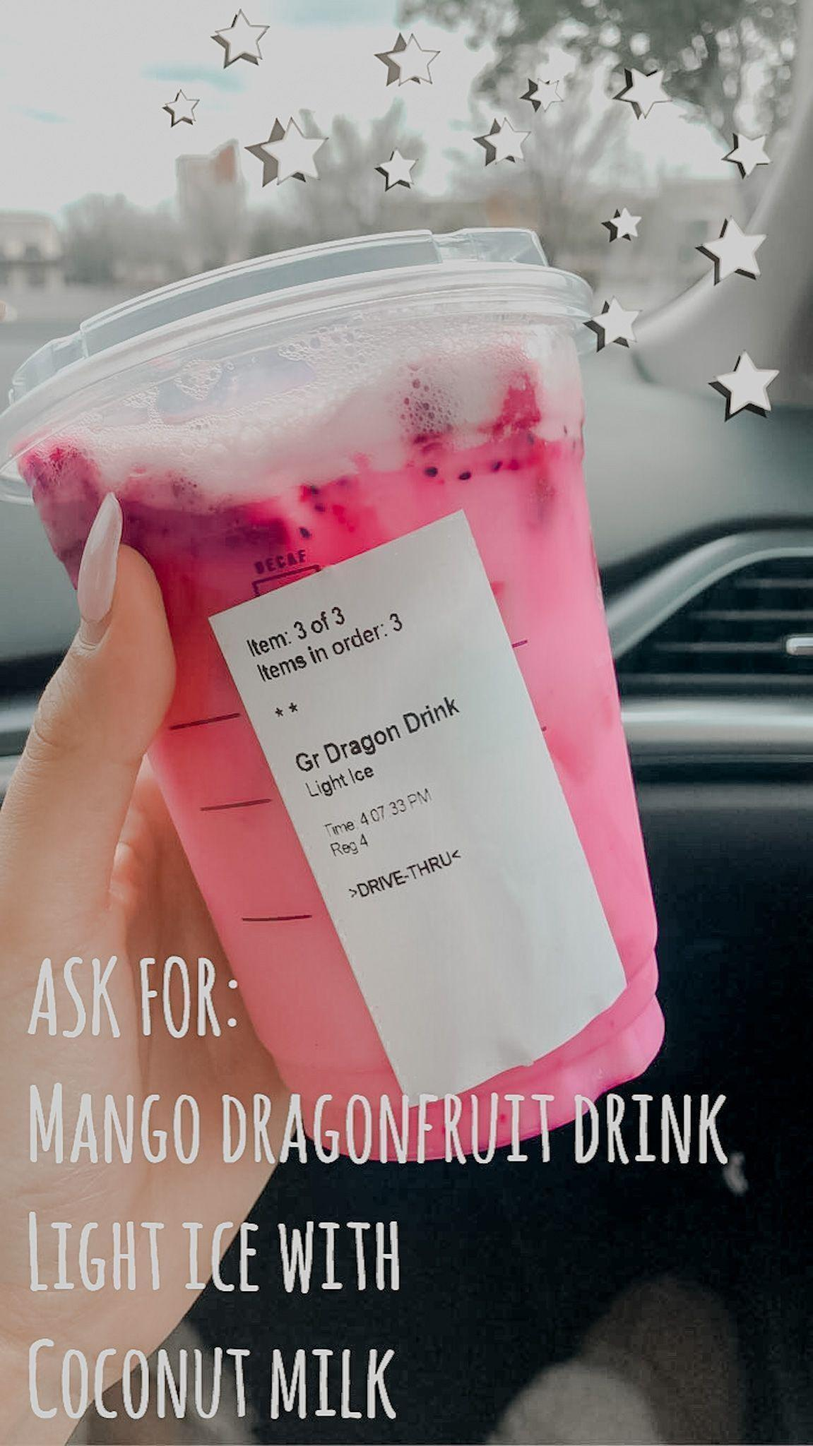cup-disposable: (1, 220, 668, 1164)
